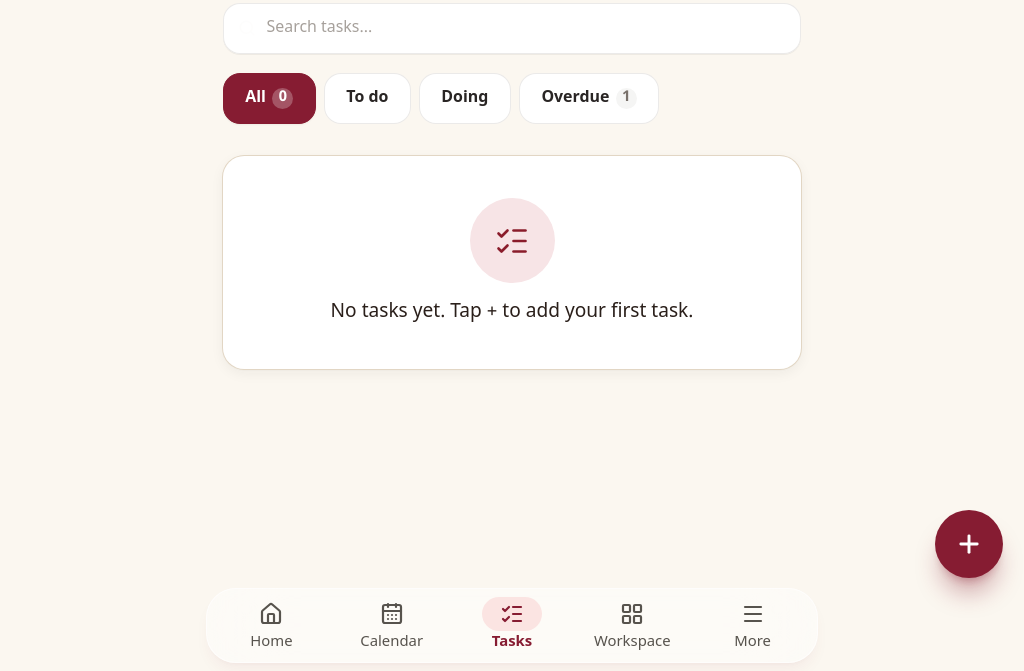
Test: Add a task › AC-TASK-01: + → type → Save sends only the title, once
Click the button named "Add task" at (969, 544), box [935,510,1003,578]
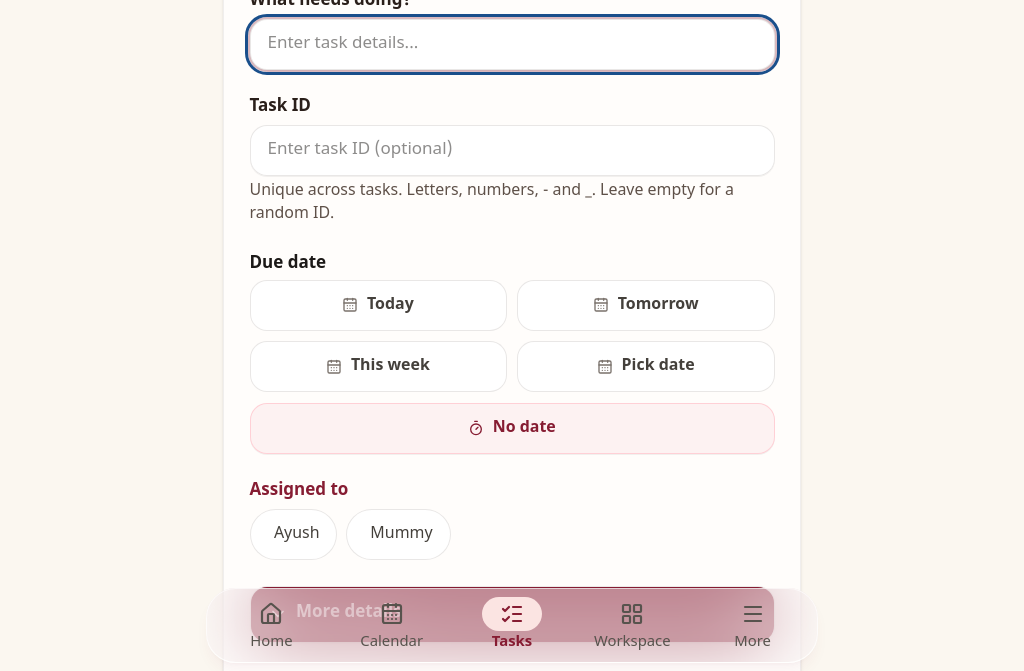
Type "Call tent wala" into the field labelled "What needs doing?" at (512, 44), box [250,19,774,70]
(page scrolled)
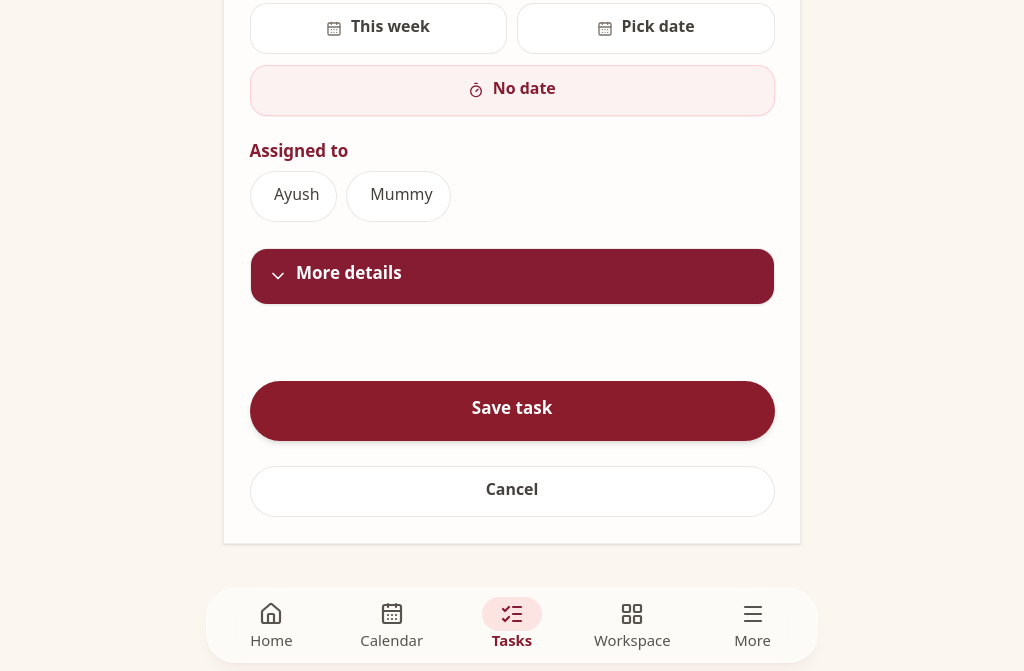
Click the button "Save task" at (512, 411), box [250,381,774,441]
(page scrolled)
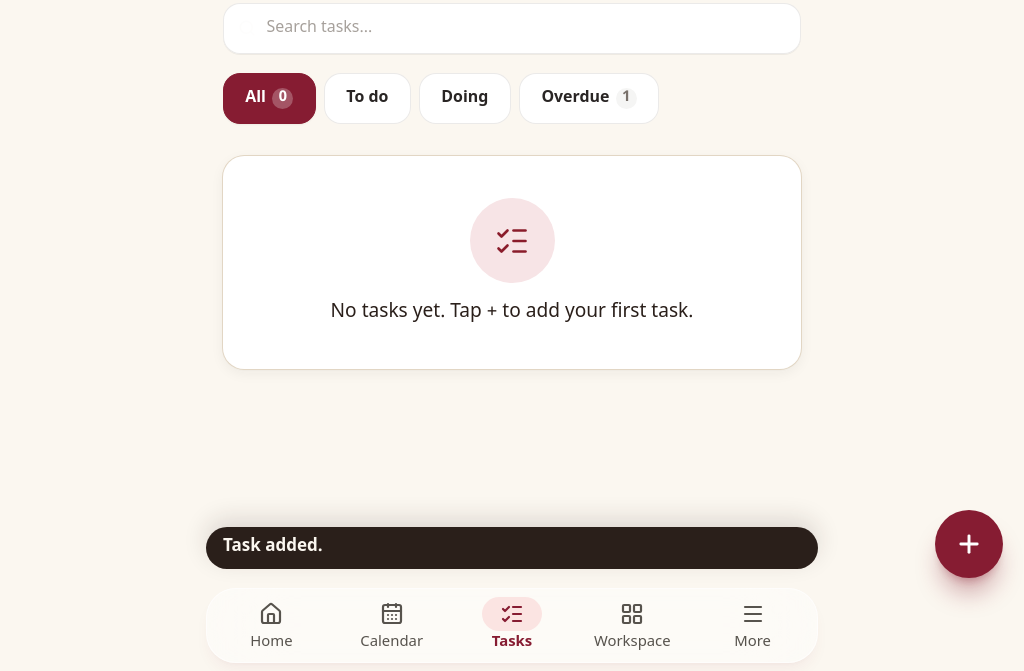
Result: the text "Task added." is shown at [223,536,323,558]
